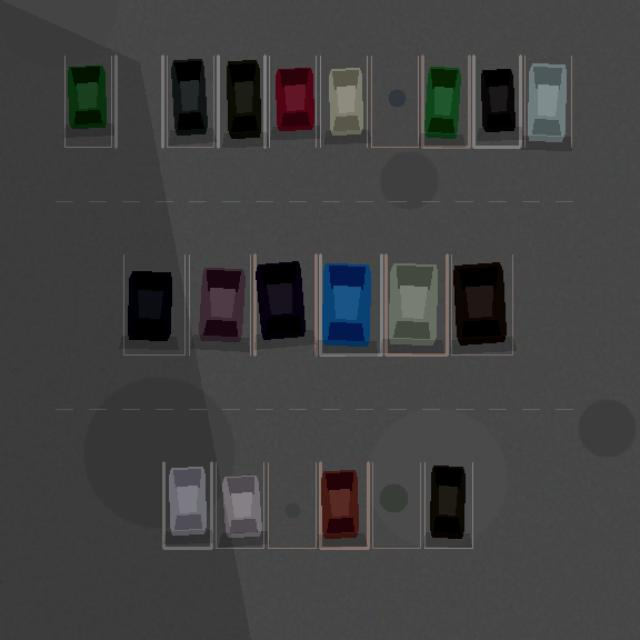space-empty: (371, 56, 418, 147), (116, 56, 162, 147), (268, 462, 316, 548), (372, 462, 420, 548)
space-occupied: (254, 254, 316, 354), (123, 254, 184, 354), (189, 254, 250, 354), (320, 254, 381, 354), (386, 254, 447, 354), (451, 254, 512, 354), (64, 56, 111, 147), (269, 56, 316, 147), (320, 56, 367, 147), (422, 56, 469, 147), (473, 56, 520, 147), (524, 56, 571, 147), (167, 56, 213, 147), (218, 56, 264, 147), (163, 462, 211, 548), (320, 462, 368, 548), (424, 462, 472, 548), (216, 462, 263, 548)
